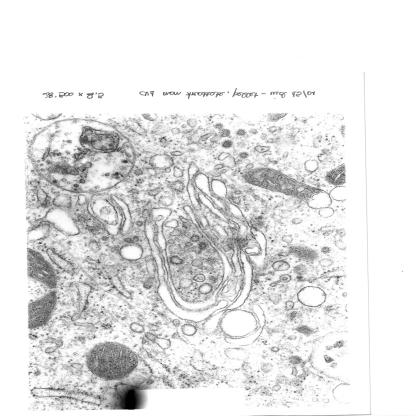mitochondria: (244, 168, 322, 203), (83, 342, 139, 380), (28, 248, 59, 288), (29, 289, 58, 329), (326, 164, 346, 187)
